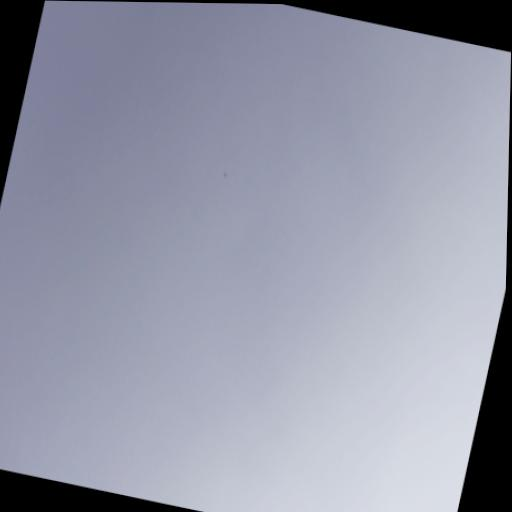drones: (222, 170, 229, 180)
